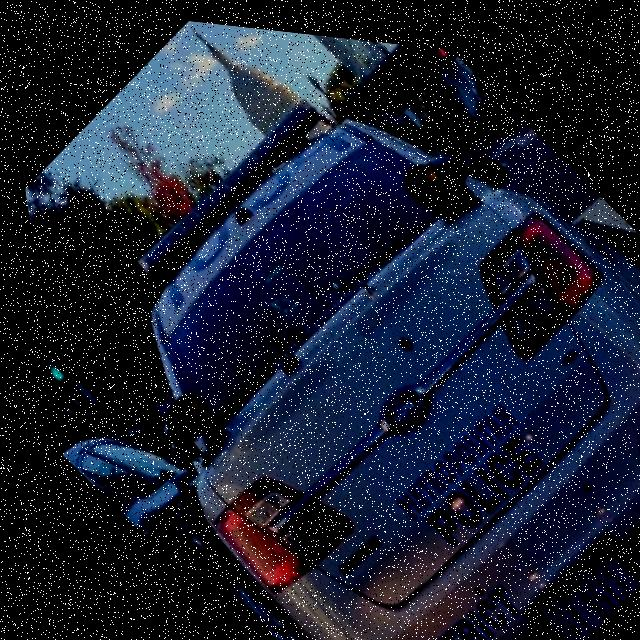license_plate: (510, 519, 637, 640)
